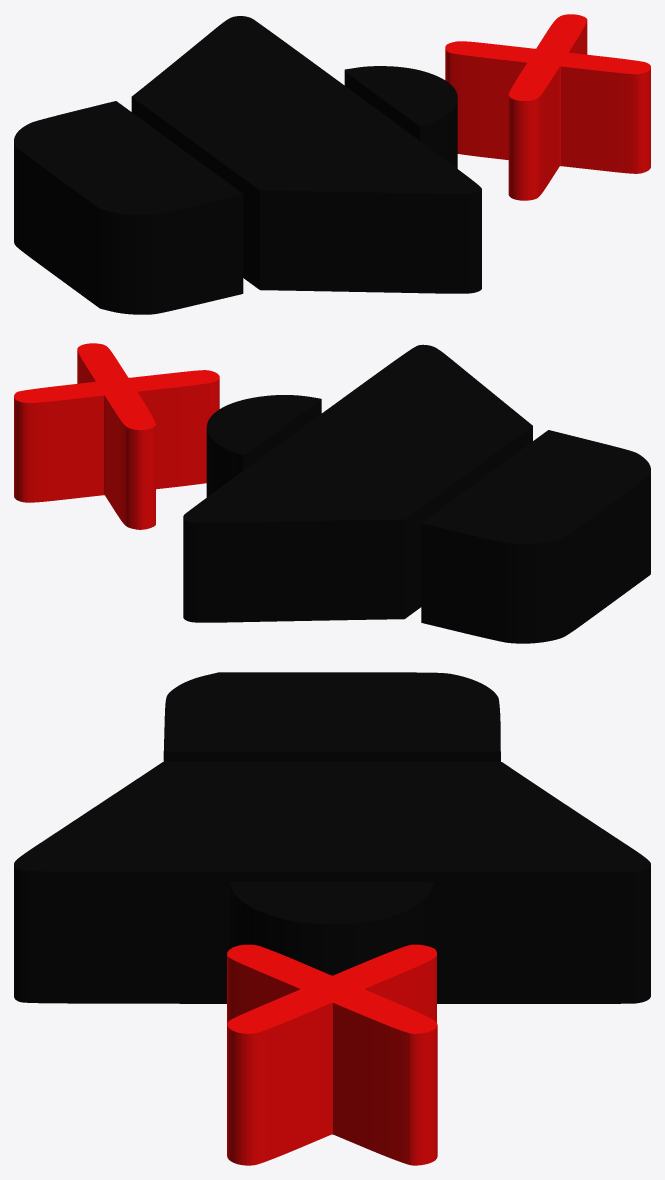
The picture shows the model from 3 angles, top to bottom: view 1: azimuth 30°, elevation 25°; view 2: azimuth 150°, elevation 25°; view 3: azimuth 270°, elevation 25°; orthographic projection. The views are drawn at different scales.
Visible parts, largest first — view 1: imagetostl_mesh; view 2: imagetostl_mesh; view 3: imagetostl_mesh.
Part boxes in pixels (x1,y1,x2,y2): imagetostl_mesh: (14,14,650,314); imagetostl_mesh: (14,343,650,643); imagetostl_mesh: (14,672,650,1165).
Size of the model in its own units: 5886 by 1000 by 4383.
